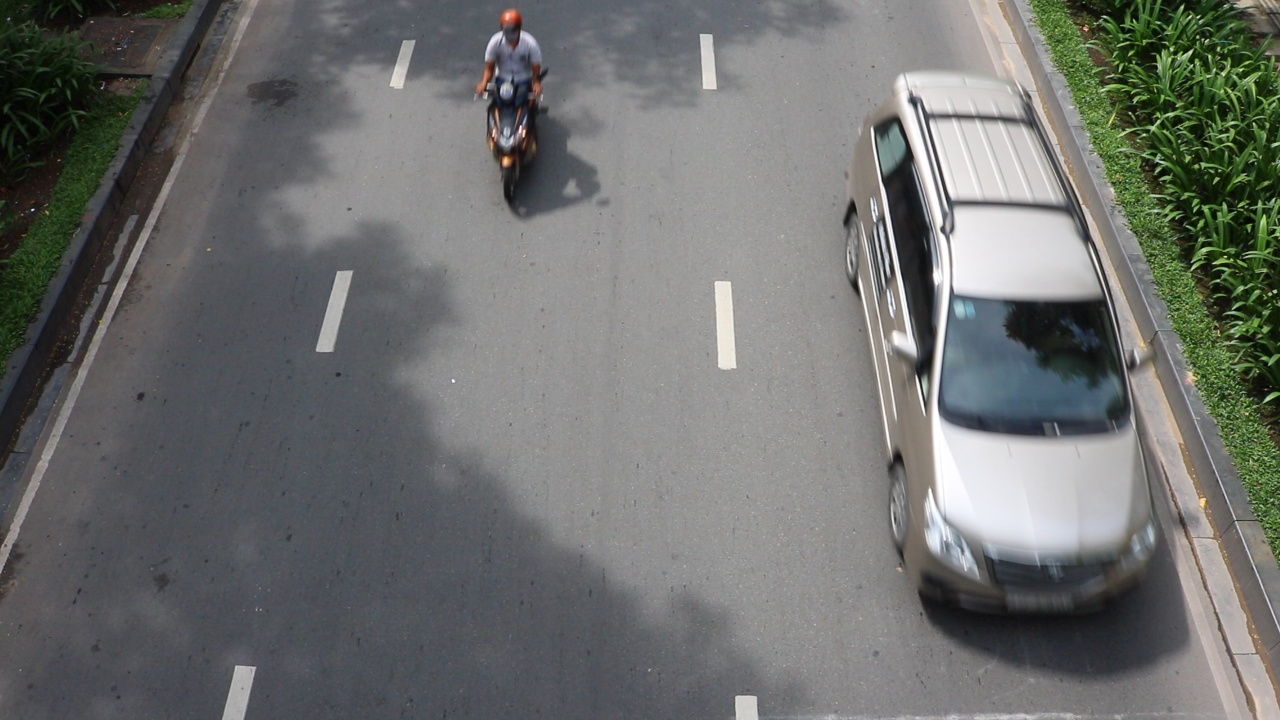car: (840, 68, 1164, 617)
motorcycle: (475, 71, 546, 207)
